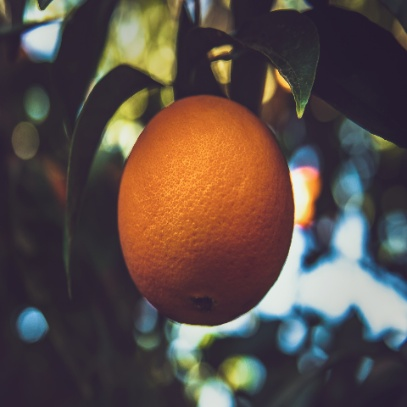orange: (99, 91, 331, 335)
